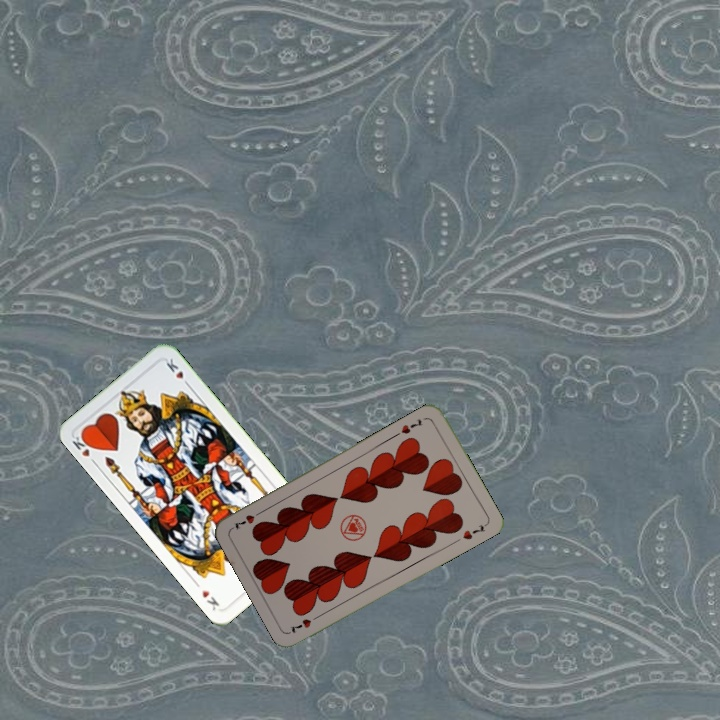H7: (286, 611, 323, 635), (397, 415, 425, 437)
HK: (68, 430, 99, 467)
